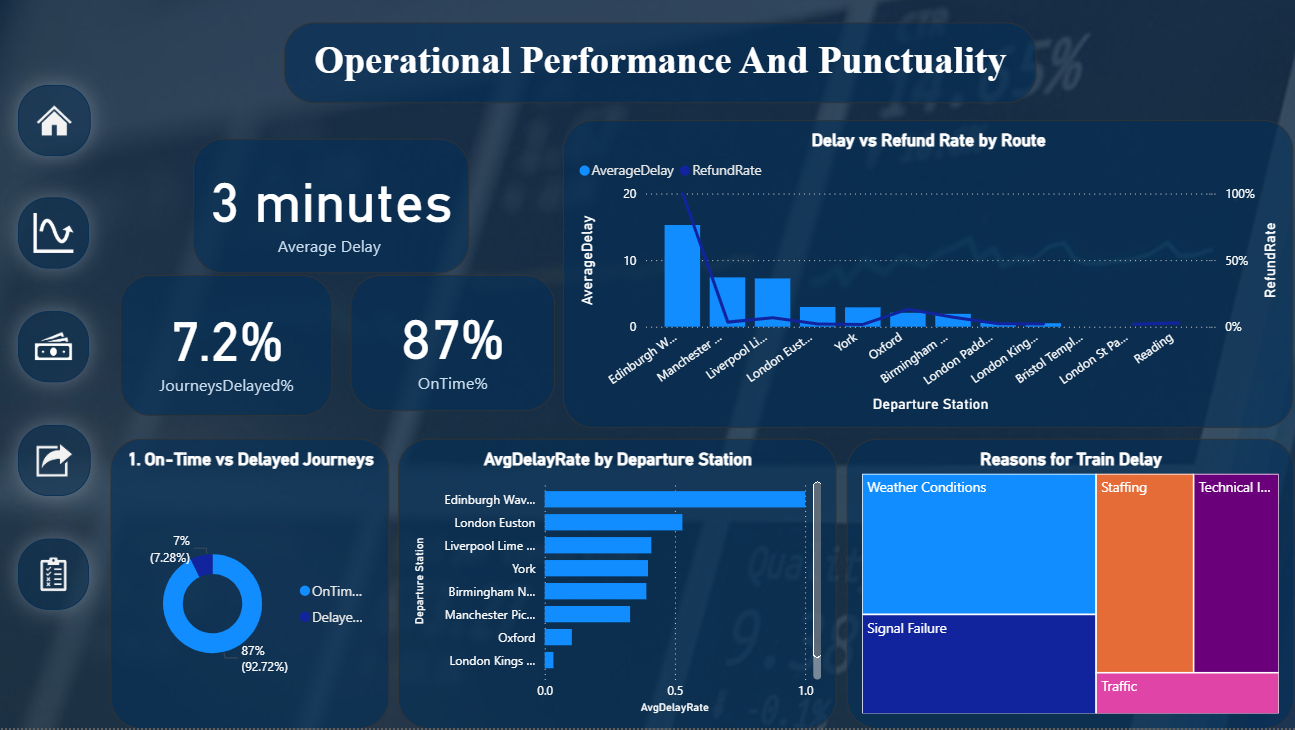

This screenshot's page, from the dashboard's own definition file:
{"tool":"powerbi","page":{"name":"Operational Performance & Punctuality","canvas":[1280,720],"ordinal":4},"visuals":[{"type":"card","fields":{"Values":["_measure.AverageDelayMinutes"]},"box":[192,140.6,271.5,132.1],"z":0},{"type":"donutChart","title":"1.\tOn-Time vs Delayed Journeys ","fields":{"Y":["_measure.OnTime%","_measure.DelayedJourneys%"]},"box":[110.1,435.3,273.9,284.9],"z":1000},{"type":"barChart","fields":{"Category":["Journey Table.Departure Station"],"Y":["_measure.AvgDelayRate"]},"box":[393.1,435.3,430.4,284.9],"z":2000},{"type":"treemap","title":"Reasons for  Train Delay","fields":{"Group":["Journey Table.Reason for Delay"],"Values":["CountNonNull(Journey Table.Reason for Delay)"]},"box":[832.7,435.3,439,284.9],"z":3000},{"type":"lineClusteredColumnComboChart","title":"Delay vs Refund Rate by Route","fields":{"Category":["Journey Table.Departure Station"],"Y":["_measure.AverageDelay"],"Y2":["_measure.RefundRate"]},"box":[554.7,123.2,716.6,302],"z":4000},{"type":"card","fields":{"Values":["_measure.JourneysDelayed%"]},"box":[119.8,275.1,207.9,138.2],"z":5000},{"type":"card","fields":{"Values":["_measure.OnTime%"]},"box":[346.1,275.1,200.5,133.3],"z":6000},{"type":"textbox","title":" Customer Impact on delay and refund","box":[281.3,26.9,738.6,79.5],"z":7000},{"type":"image","box":[19.8,199.3,69.7,69.7],"z":8000},{"type":"image","box":[19.8,310.6,69.7,69.7],"z":9000},{"type":"image","box":[19.2,421.9,70.9,69.7],"z":10000},{"type":"image","box":[19.8,533.2,69.7,69.7],"z":11000},{"type":"image","box":[19.2,88,70.9,69.7],"z":12000}]}

Visuals, with their boxes in screenshot pixels (x1, y1, x2, y2), scaled from the page's 1280x720 canvas onto the 1295x730 screenshot:
card - _measure.AverageDelayMinutes: <box>194,143,469,276</box>
"1.	On-Time vs Delayed Journeys " donutChart: <box>111,441,388,729</box>
barChart - Journey Table.Departure Station x _measure.AvgDelayRate: <box>398,441,833,729</box>
"Reasons for  Train Delay" treemap: <box>842,441,1287,729</box>
"Delay vs Refund Rate by Route" lineClusteredColumnComboChart: <box>561,125,1286,431</box>
card - _measure.JourneysDelayed%: <box>121,279,332,419</box>
card - _measure.OnTime%: <box>350,279,553,414</box>
" Customer Impact on delay and refund" textbox: <box>285,27,1032,108</box>
image: <box>20,202,91,273</box>
image: <box>20,315,91,386</box>
image: <box>19,428,91,498</box>
image: <box>20,541,91,611</box>
image: <box>19,89,91,160</box>
